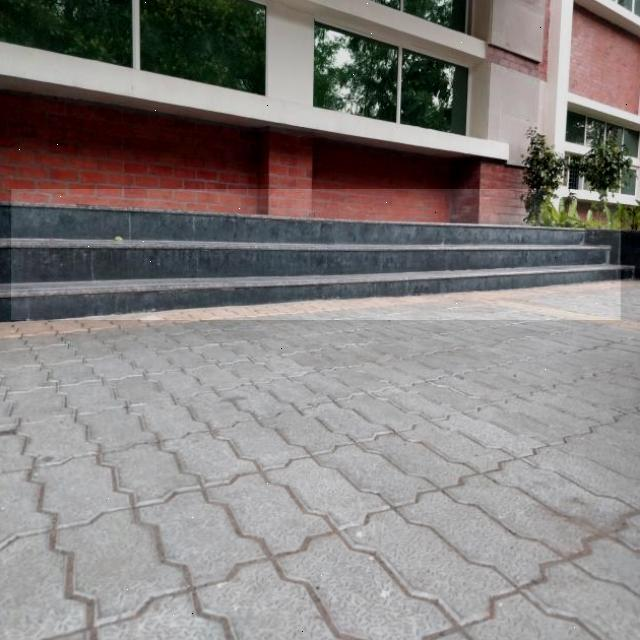stair: (11, 189, 621, 320)
